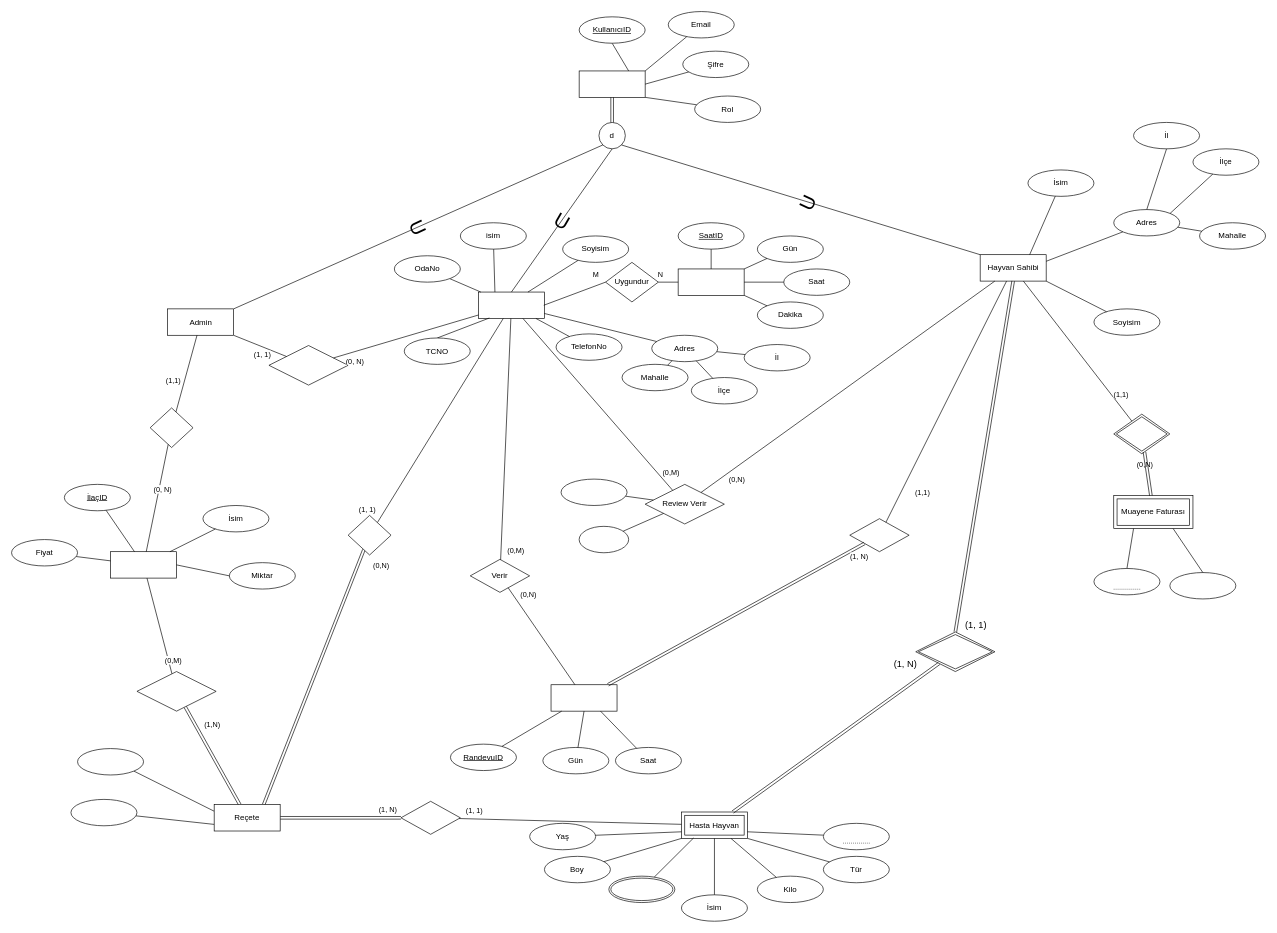
This 1277x933 diagram has some shape labels left out. The shapes that lost their labels are listed below. From the top down, each one's centre as x and y in pixels, then its label:
the point at 611,83: Kullanıcı
the point at 710,281: Saatler
the point at 511,304: Veteriner
the point at 308,365: Ekler
the point at 171,427: İlaç Alır
the point at 1141,433: Öder
the point at 593,491: Puan
the point at 369,535: Yazar
the point at 603,539: Açıklama
the point at 879,535: Alır
the point at 143,564: İlaçlar
the point at 1126,581: FaturaID
the point at 1202,585: Ücret
the point at 955,651: Sahip
the point at 176,691: İçerir
the point at 583,697: Randevu
the point at 110,761: ReçeteID
the point at 103,812: Tarih
the point at 430,817: Var
the point at 856,836: HastaID
the point at 641,889: Renk
